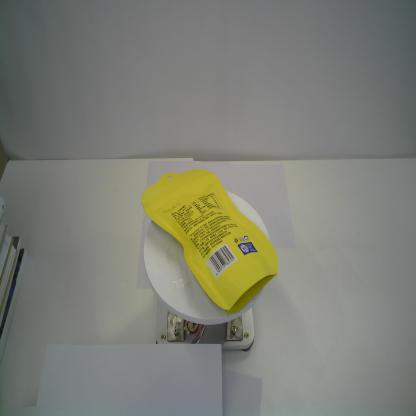Dried Fruit: (140, 168, 279, 314)
